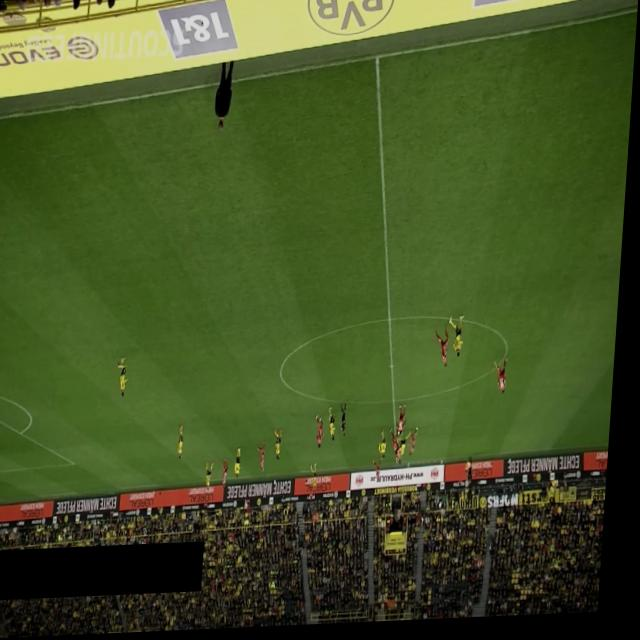player: (436, 328, 454, 372), (452, 318, 469, 361), (496, 362, 512, 398), (120, 358, 134, 398), (319, 417, 331, 451), (401, 407, 413, 440), (393, 431, 407, 457), (332, 409, 342, 444), (261, 442, 272, 473), (278, 431, 288, 463), (210, 461, 221, 490), (384, 430, 393, 462), (182, 425, 190, 461), (405, 435, 416, 461), (414, 431, 424, 459), (377, 460, 388, 485), (239, 449, 247, 481), (315, 465, 324, 493), (400, 442, 409, 468), (227, 460, 234, 490)
referee: (343, 404, 354, 440), (471, 460, 479, 491)
